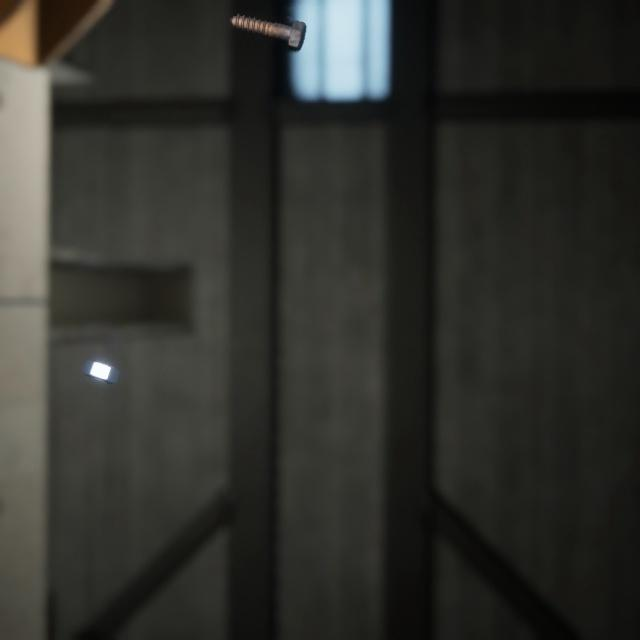bolt: (225, 0, 310, 47)
nut: (78, 336, 124, 369)
